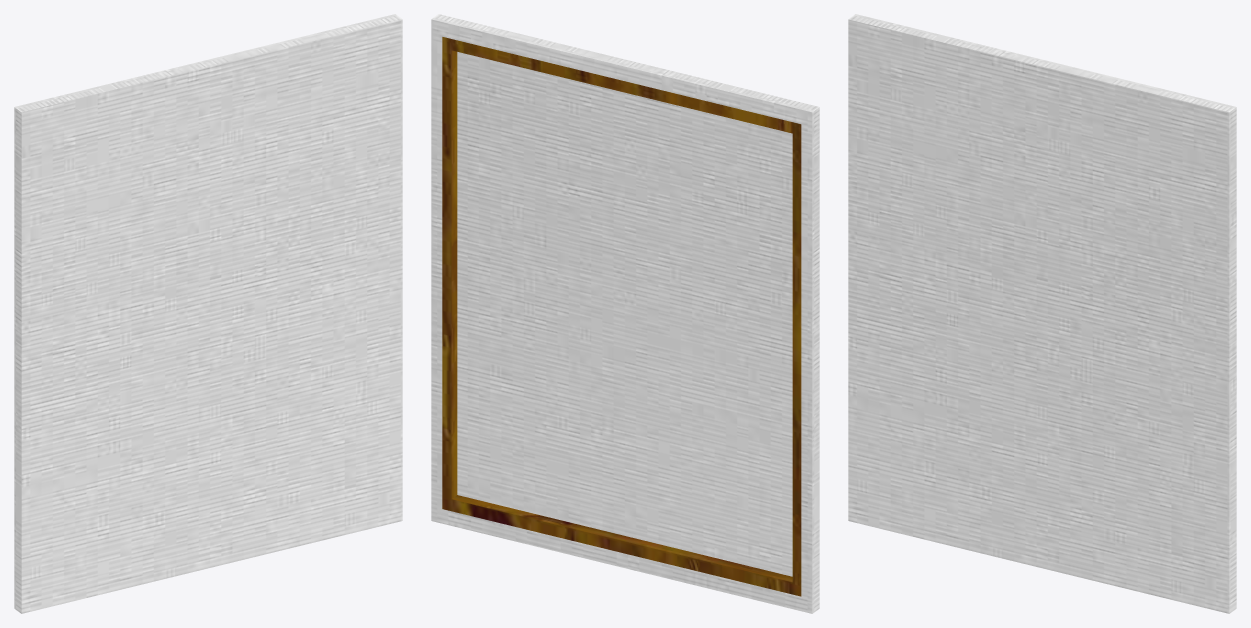
The model's file is painting-canvas.glb.
3 views of the same model, side by side, from view 1: azimuth 30°, elevation 25°; view 2: azimuth 150°, elevation 25°; view 3: azimuth 330°, elevation 25° (orthographic).
Parts seen in each view (by area): view 1: painting_canvas; view 2: painting_canvas (×2); view 3: painting_canvas.
Boxes of the visible parts, x1,y1,x2,y2 form: painting_canvas: [14, 14, 402, 613]; painting_canvas (×2): [431, 14, 819, 613]; painting_canvas: [848, 14, 1236, 613].
Size of the model in its own units: 3.17 by 3.98 by 0.1059.
2 materials, 2 textured.
